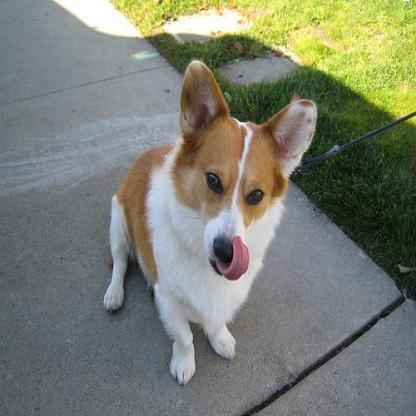Pembroke: (101, 59, 318, 388)
